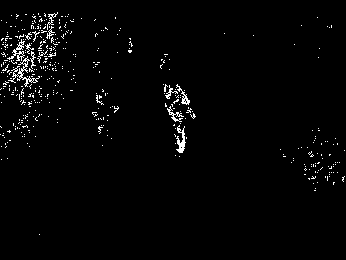person: (154, 53, 194, 158)
